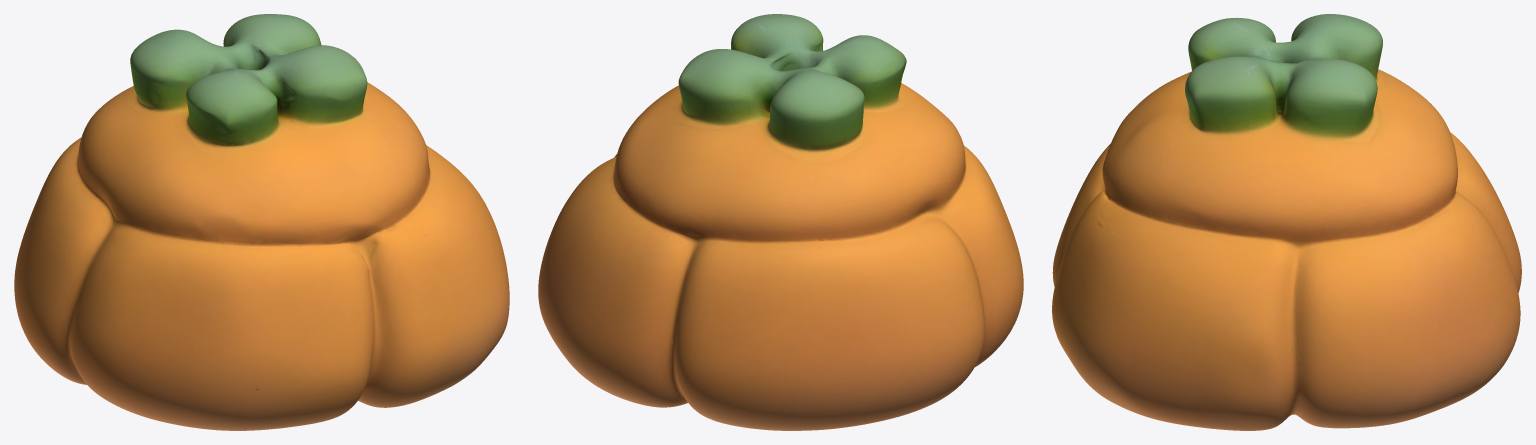
3 renders of one model, left to right at view 1: azimuth 30°, elevation 25°; view 2: azimuth 150°, elevation 25°; view 3: azimuth 270°, elevation 25°, orthographic. The views are drawn at different scales.
Visible parts, largest first — view 1: node_0; view 2: node_0; view 3: node_0.
Boxes of the visible parts, x1=… form: node_0: x1=14, y1=14, x2=509, y2=430; node_0: x1=538, y1=14, x2=1023, y2=430; node_0: x1=1052, y1=14, x2=1521, y2=430.
Size of the model in its own units: 1.01 by 0.7252 by 1.
Materials: 1 (1 with a texture image).
